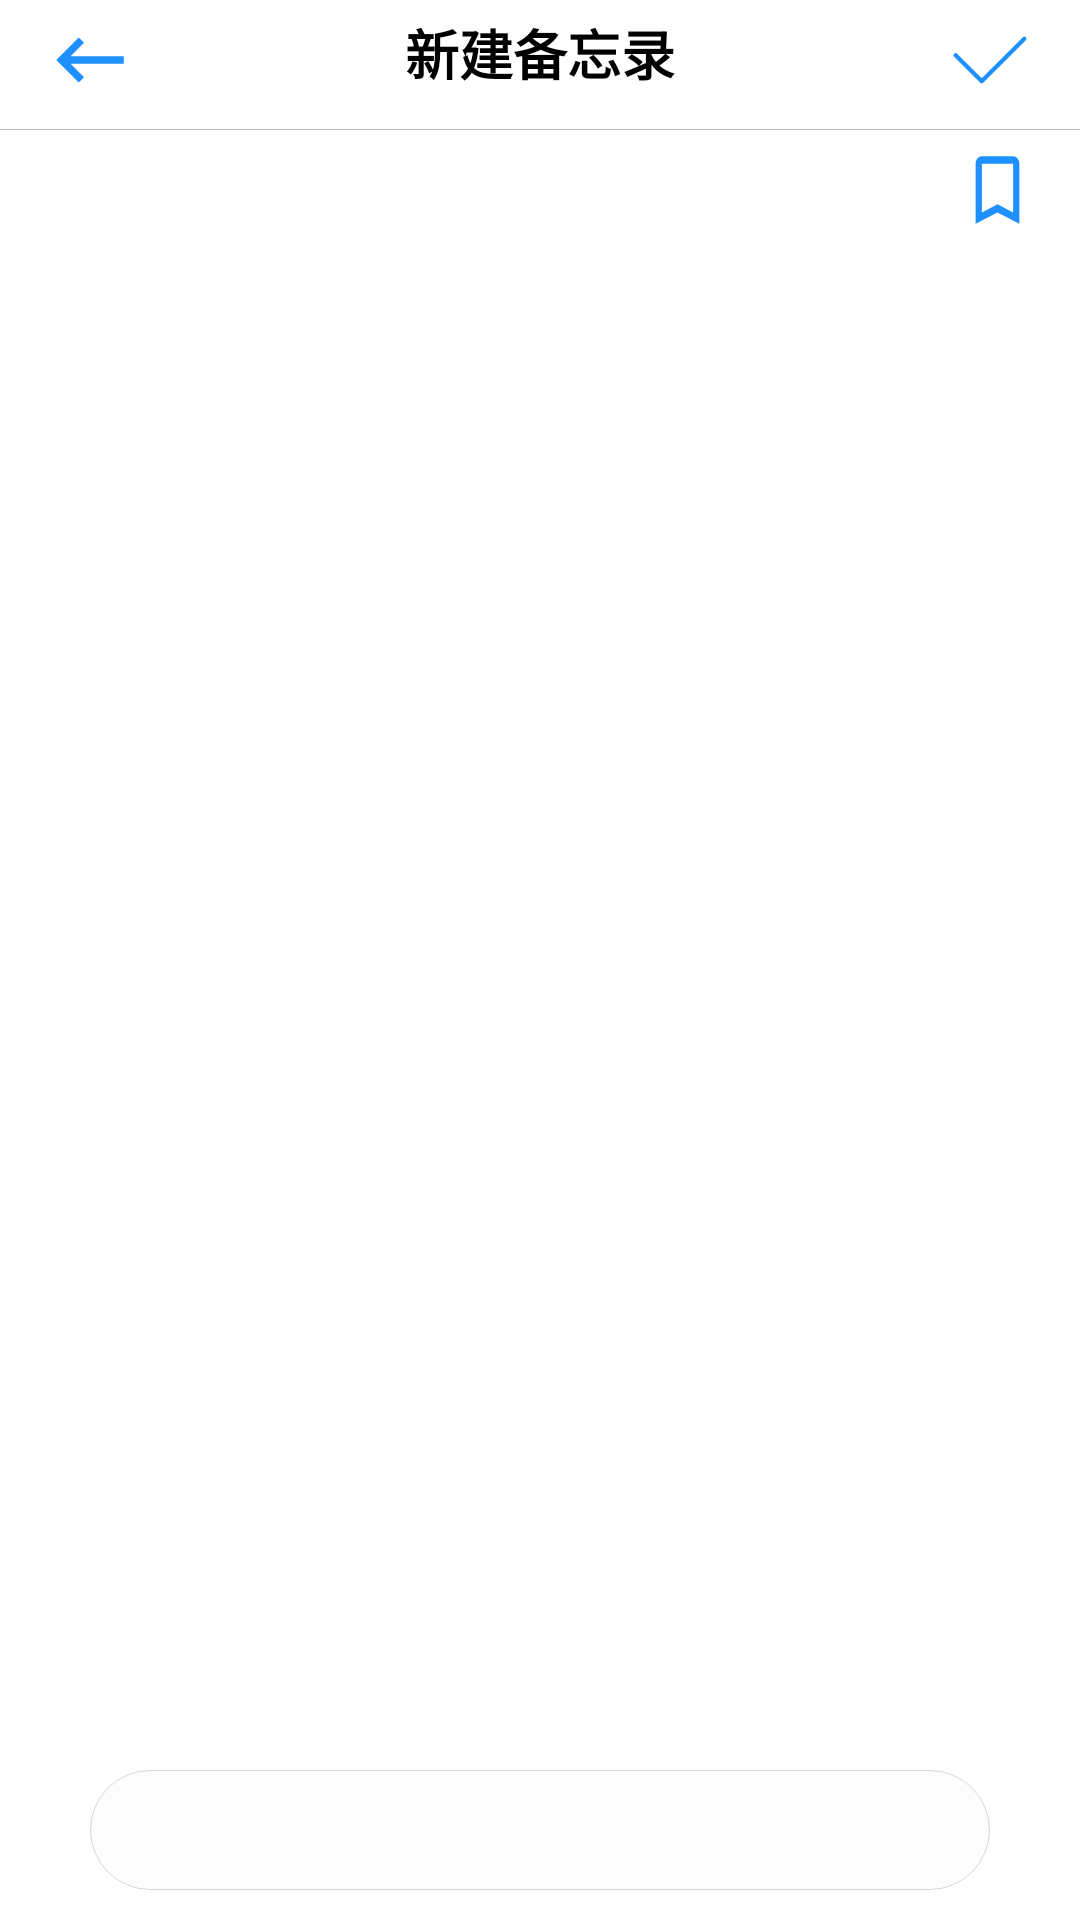

Named icons in this screenshot (1080w x 1920h) and their centers, [x,y]:
tag none: [997,190]
